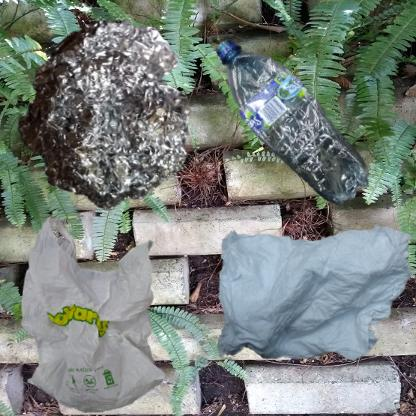aluminio: (10, 10, 200, 219)
bolsa: (10, 213, 186, 416)
botella: (213, 10, 400, 262)
papel: (213, 213, 416, 372)
